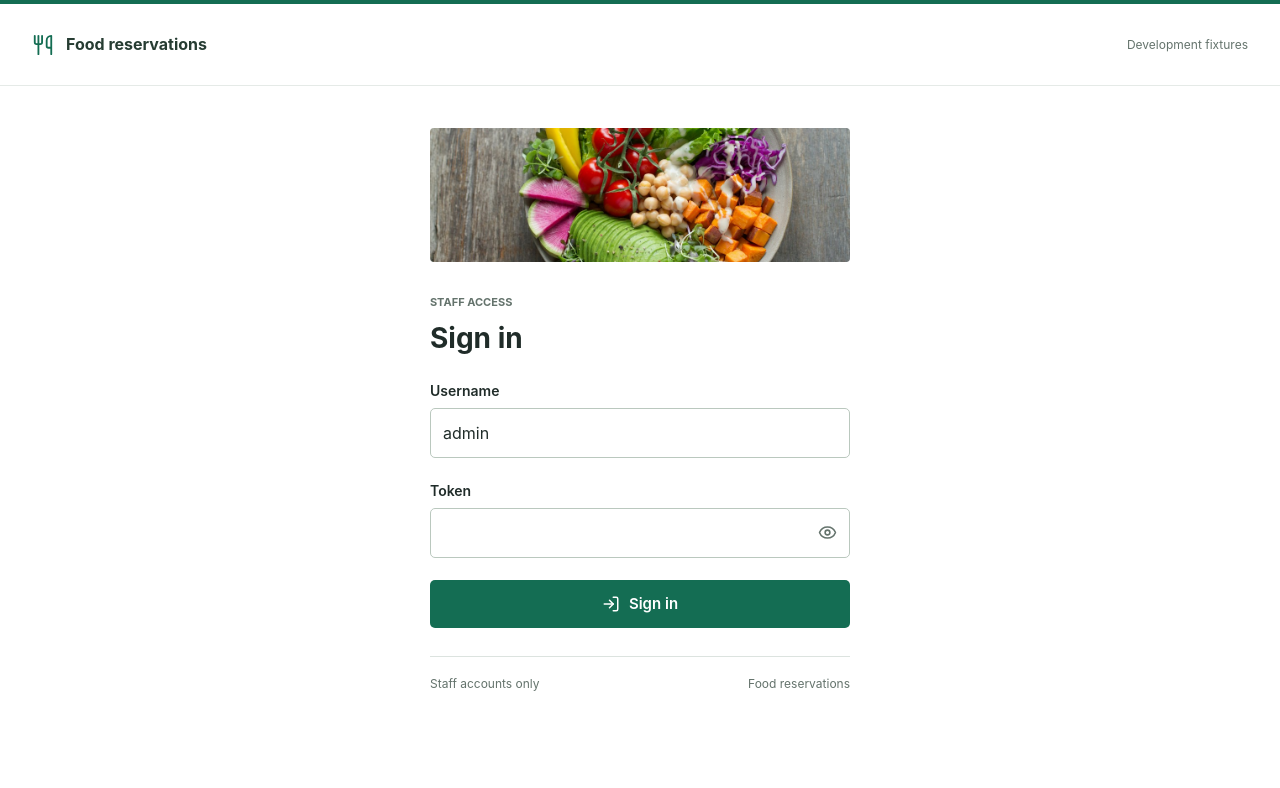
recipe and ingredient estimate workflow › shows a known zero purchase cost as a complete $0.00 estimate
Type "local-admin-token" into the password field labelled "Token" at [618, 532], box top-left (431, 508), bottom-right (805, 556)
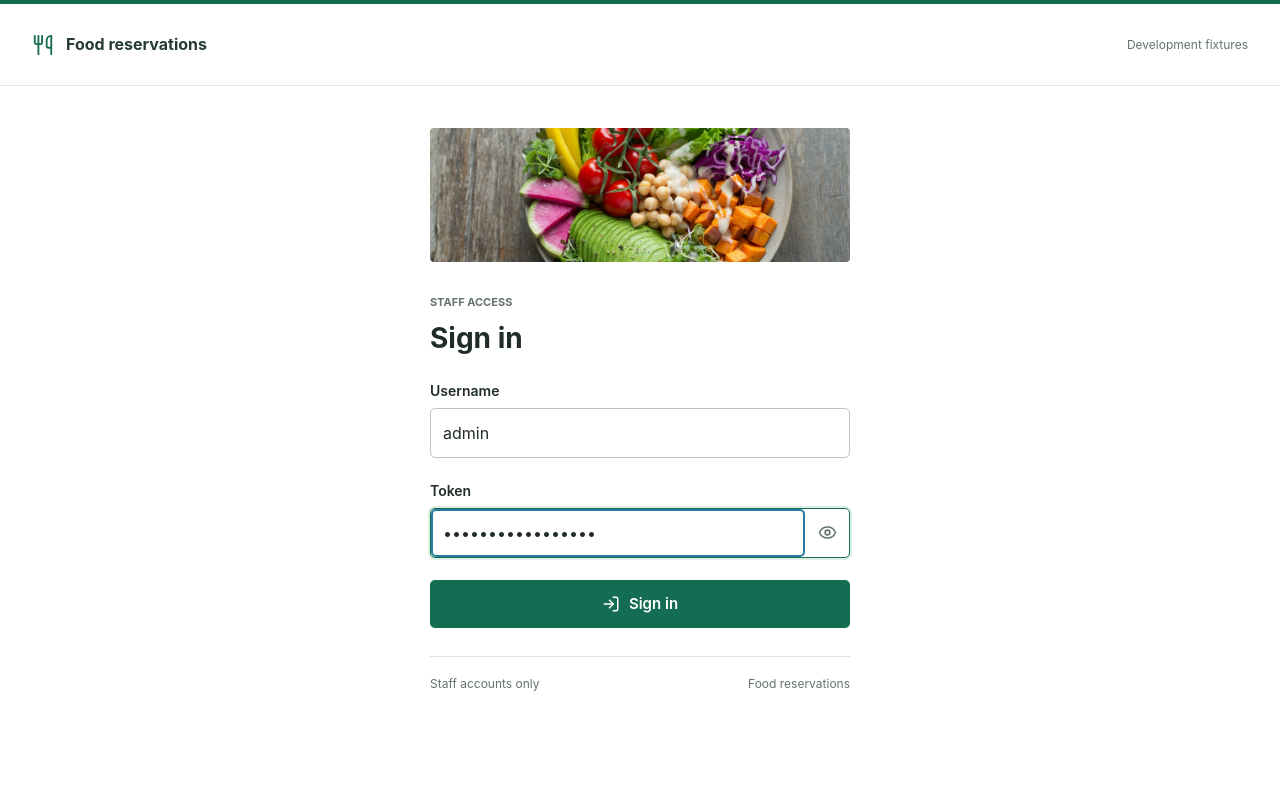
Click the button "Sign in" at [640, 604], box top-left (430, 580), bottom-right (850, 628)
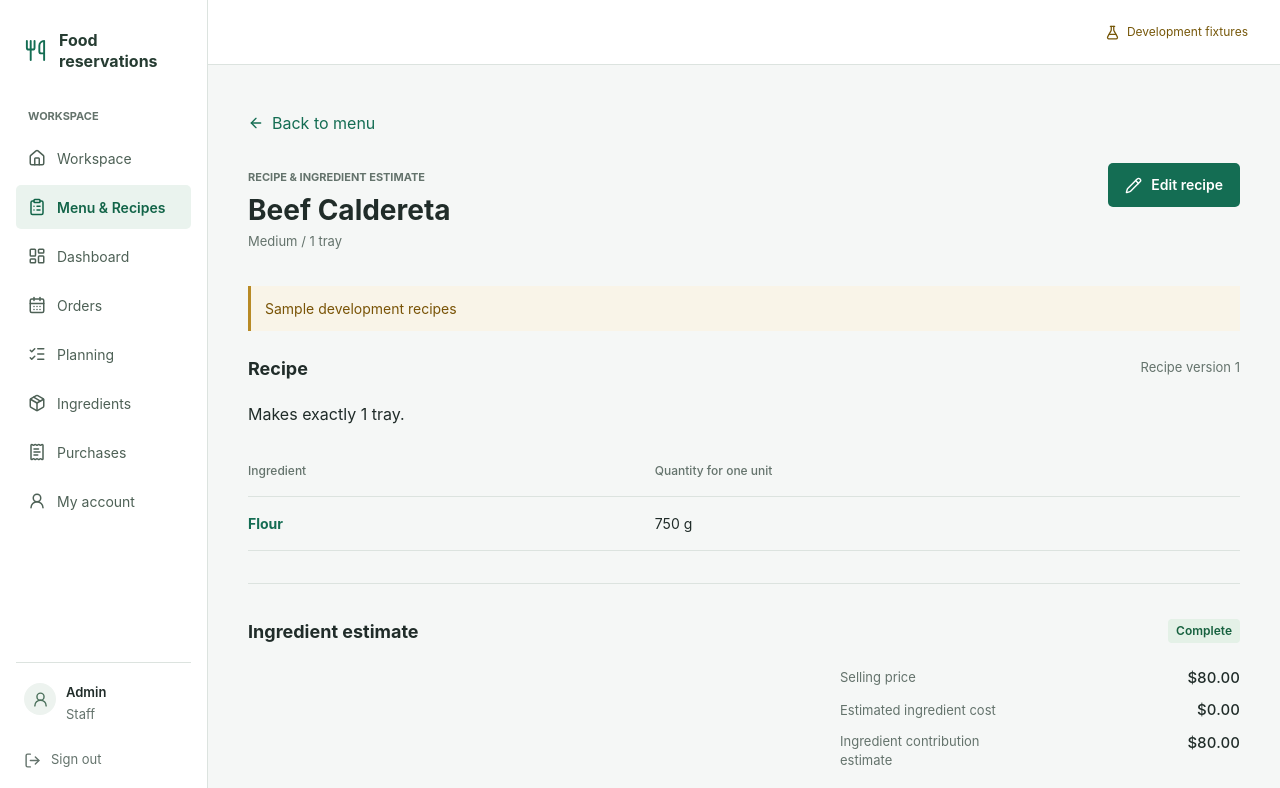
Expected: the text "Complete" is shown, top-left (1168, 619), bottom-right (1240, 643)
